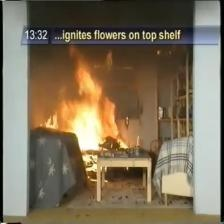fire: (51, 43, 129, 147)
